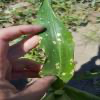Corn leaf blight: (35, 0, 75, 76)
